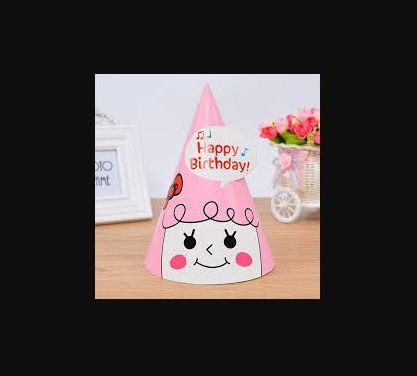cone: (144, 84, 276, 285)
